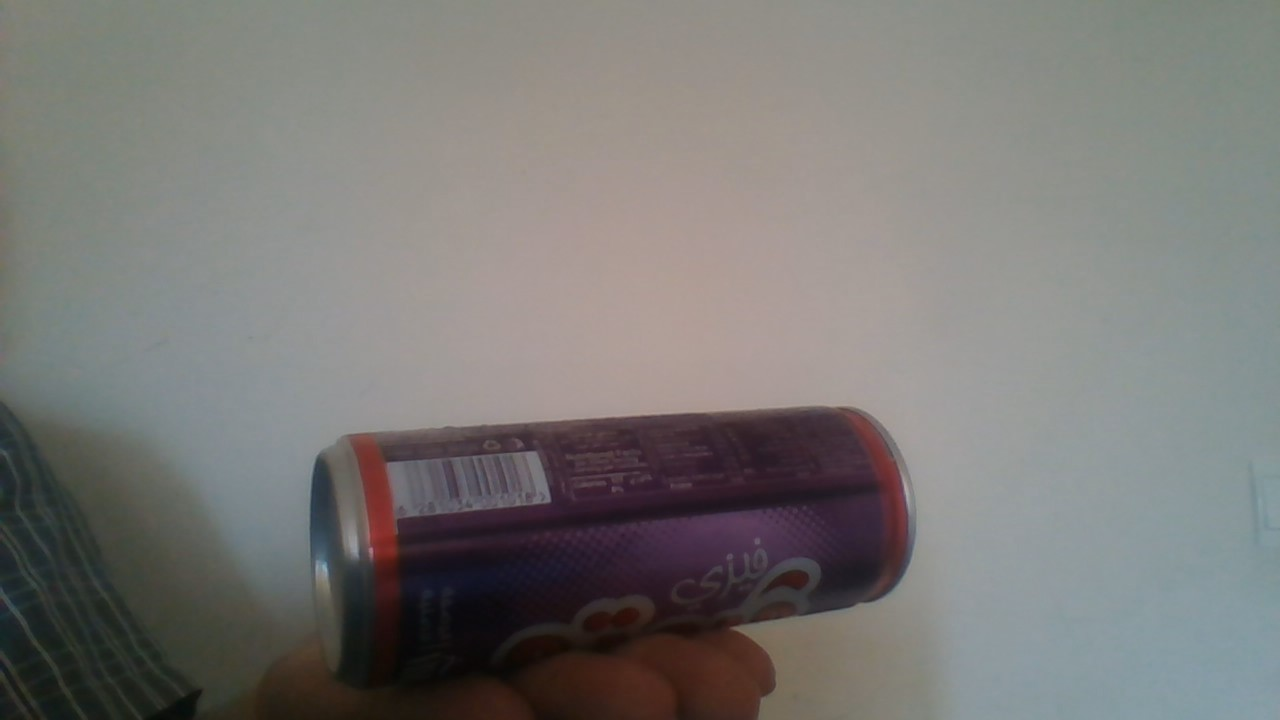can: (301, 397, 926, 686)
